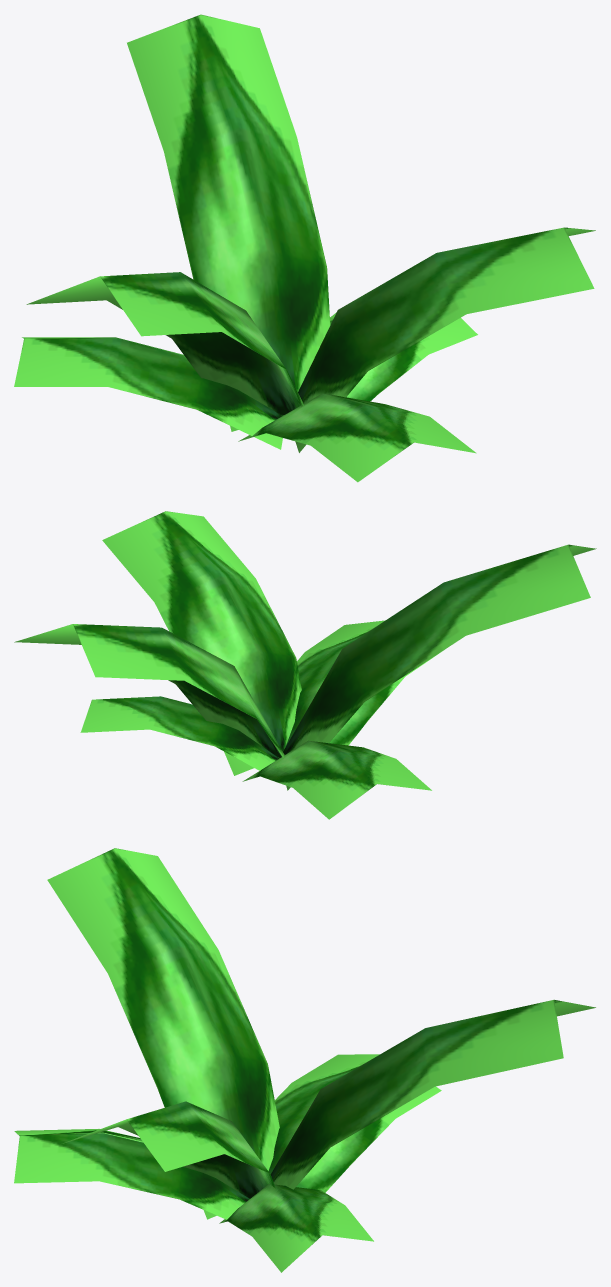
File: INST_EKH_H2O_LILLYA_PLANT_01.fbx
The picture shows the model from 3 angles, top to bottom: view 1: azimuth 30°, elevation 25°; view 2: azimuth 150°, elevation 25°; view 3: azimuth 270°, elevation 25°; orthographic projection. The views are drawn at different scales.
Visible parts, largest first — view 1: INST_EKH_H2O_LILLYA_PLANT_01; view 2: INST_EKH_H2O_LILLYA_PLANT_01; view 3: INST_EKH_H2O_LILLYA_PLANT_01.
Part boxes in pixels (box(x1,y1,x2,y2)): INST_EKH_H2O_LILLYA_PLANT_01: box(14, 14, 595, 482); INST_EKH_H2O_LILLYA_PLANT_01: box(14, 511, 596, 819); INST_EKH_H2O_LILLYA_PLANT_01: box(14, 848, 595, 1272).
Size of the model in its own units: 14482 by 6772 by 14075.
Materials: 1 (1 with a texture image).
